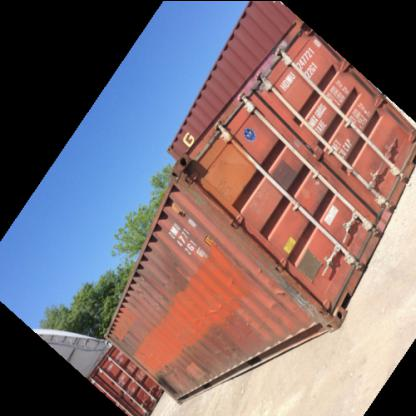Damage: (155, 256, 186, 294), (115, 318, 144, 354), (199, 296, 233, 326), (207, 340, 249, 364), (119, 273, 146, 310), (261, 286, 293, 316), (156, 374, 188, 395)
